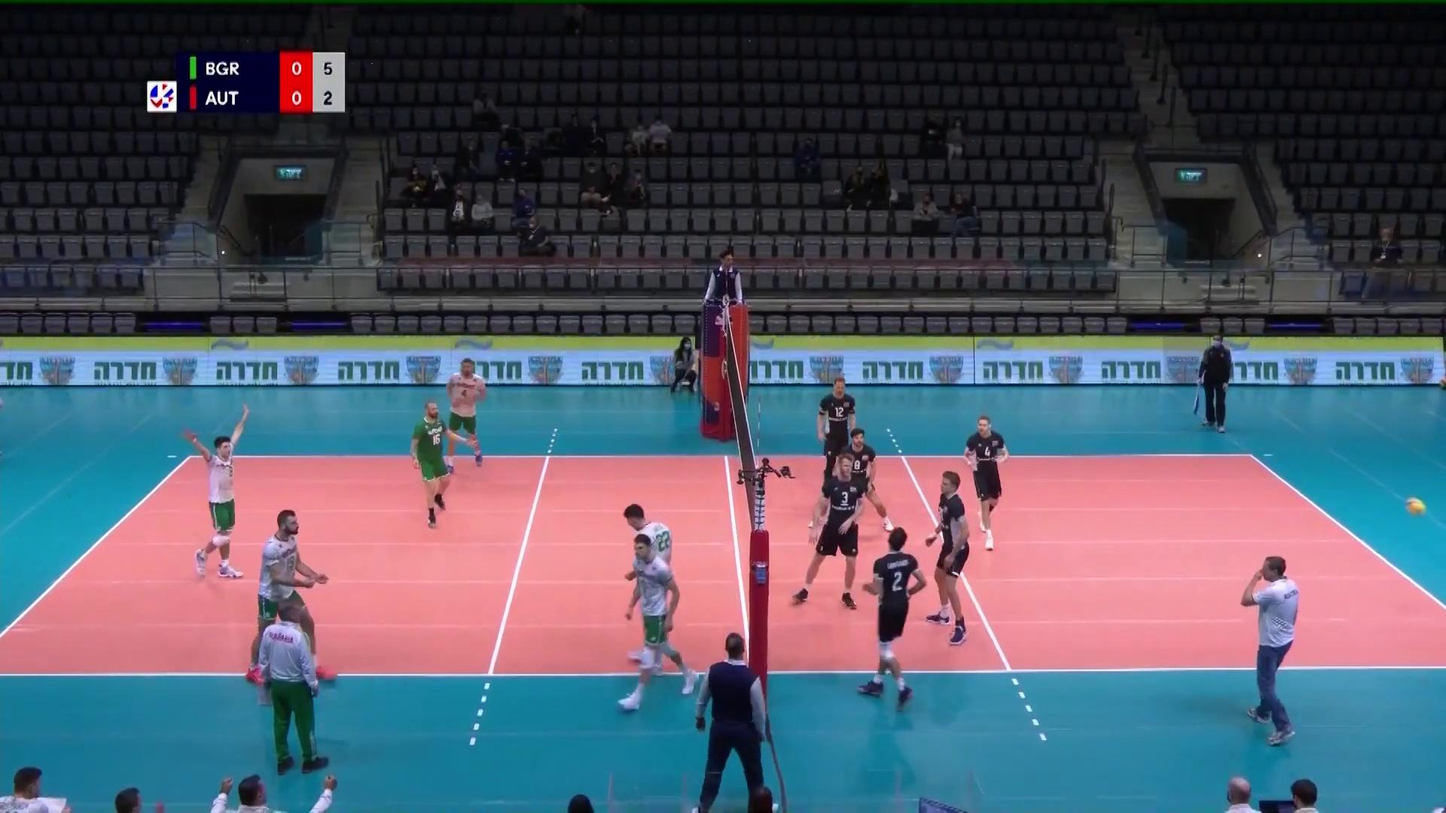ball: (1406, 496, 1425, 515)
